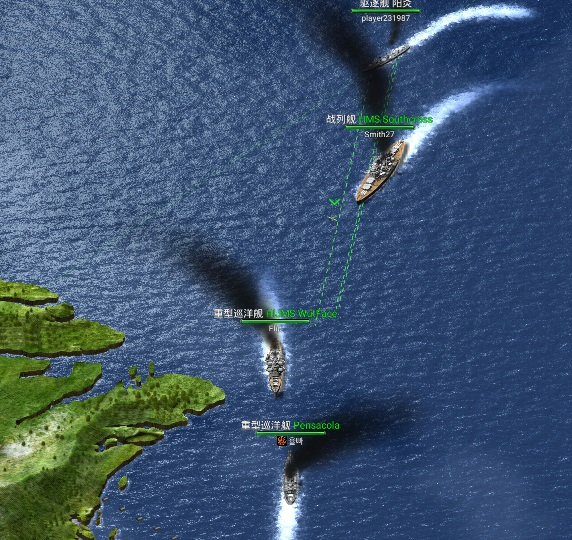ship: (356, 138, 405, 203), (263, 332, 290, 398), (364, 42, 412, 71), (282, 451, 300, 506)
